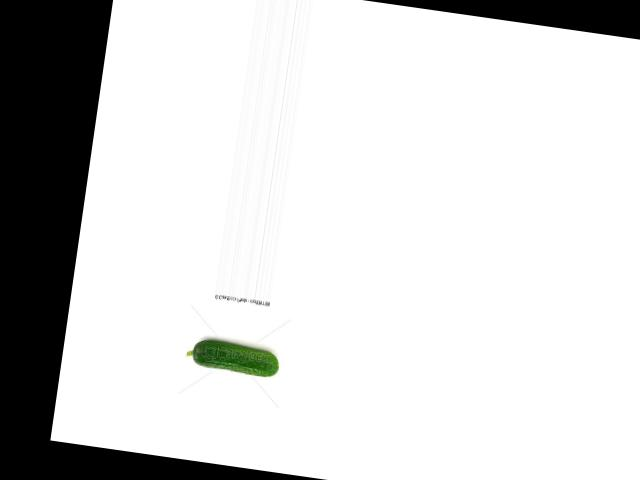cucumber: (185, 336, 282, 378)
